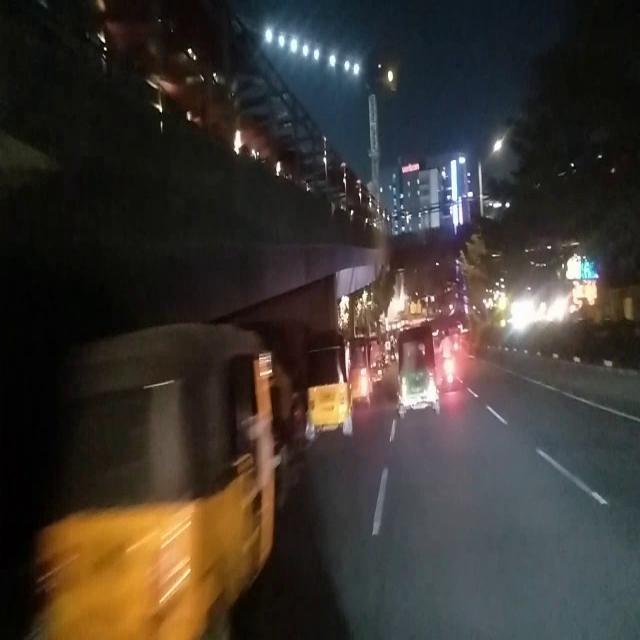auto: (34, 329, 283, 640), (301, 329, 356, 443), (396, 328, 441, 419), (354, 330, 373, 410)
road: (274, 393, 640, 640)
